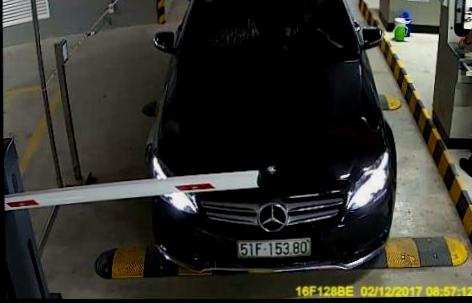License_Plate: (226, 226, 316, 266)
